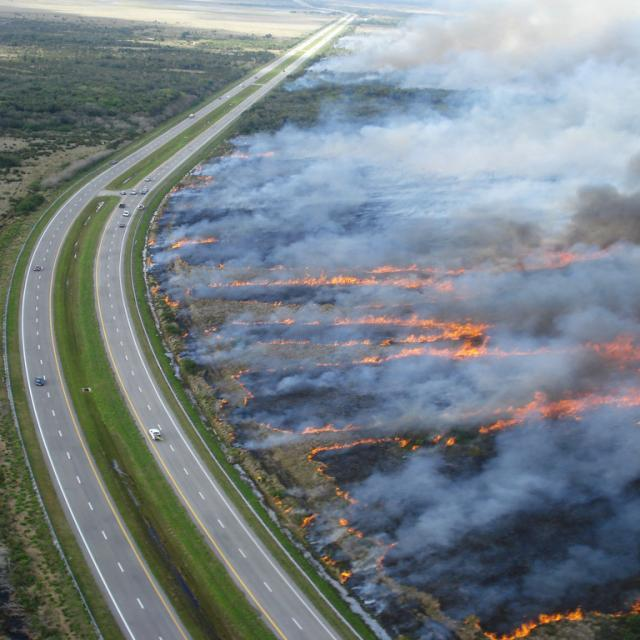Fire: (316, 314, 640, 364), (479, 388, 640, 434), (302, 424, 456, 462), (485, 603, 640, 640), (208, 274, 452, 294), (272, 494, 321, 535), (318, 463, 362, 506), (168, 166, 214, 194), (362, 538, 397, 570), (366, 264, 466, 274), (170, 236, 218, 248), (338, 516, 364, 538), (329, 568, 352, 585), (260, 424, 296, 434), (252, 318, 296, 326), (164, 294, 179, 316), (322, 556, 340, 568), (258, 342, 310, 346), (150, 285, 159, 294), (230, 322, 250, 326), (300, 322, 318, 324)
Smoke: (220, 112, 640, 264), (280, 0, 640, 110), (364, 463, 640, 538), (398, 538, 640, 603), (259, 367, 480, 424), (453, 276, 640, 314), (182, 294, 452, 314), (460, 434, 639, 462), (481, 365, 640, 388), (396, 605, 486, 640), (180, 327, 258, 363), (161, 193, 218, 237), (469, 262, 639, 276), (352, 578, 396, 616), (148, 250, 218, 270), (162, 271, 208, 293), (239, 436, 299, 450)
